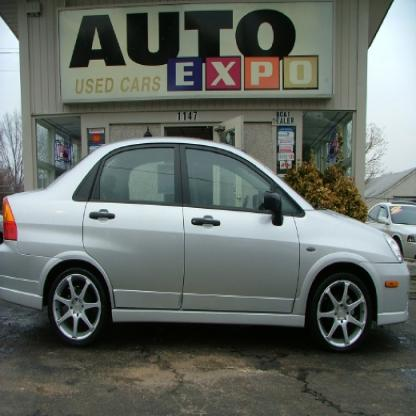Vehicle: (5, 137, 412, 355)
